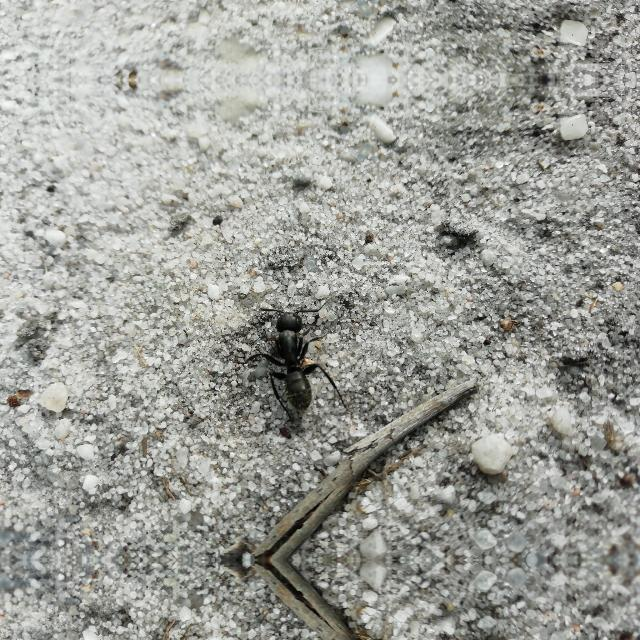Camponotus: (245, 282, 348, 416)
